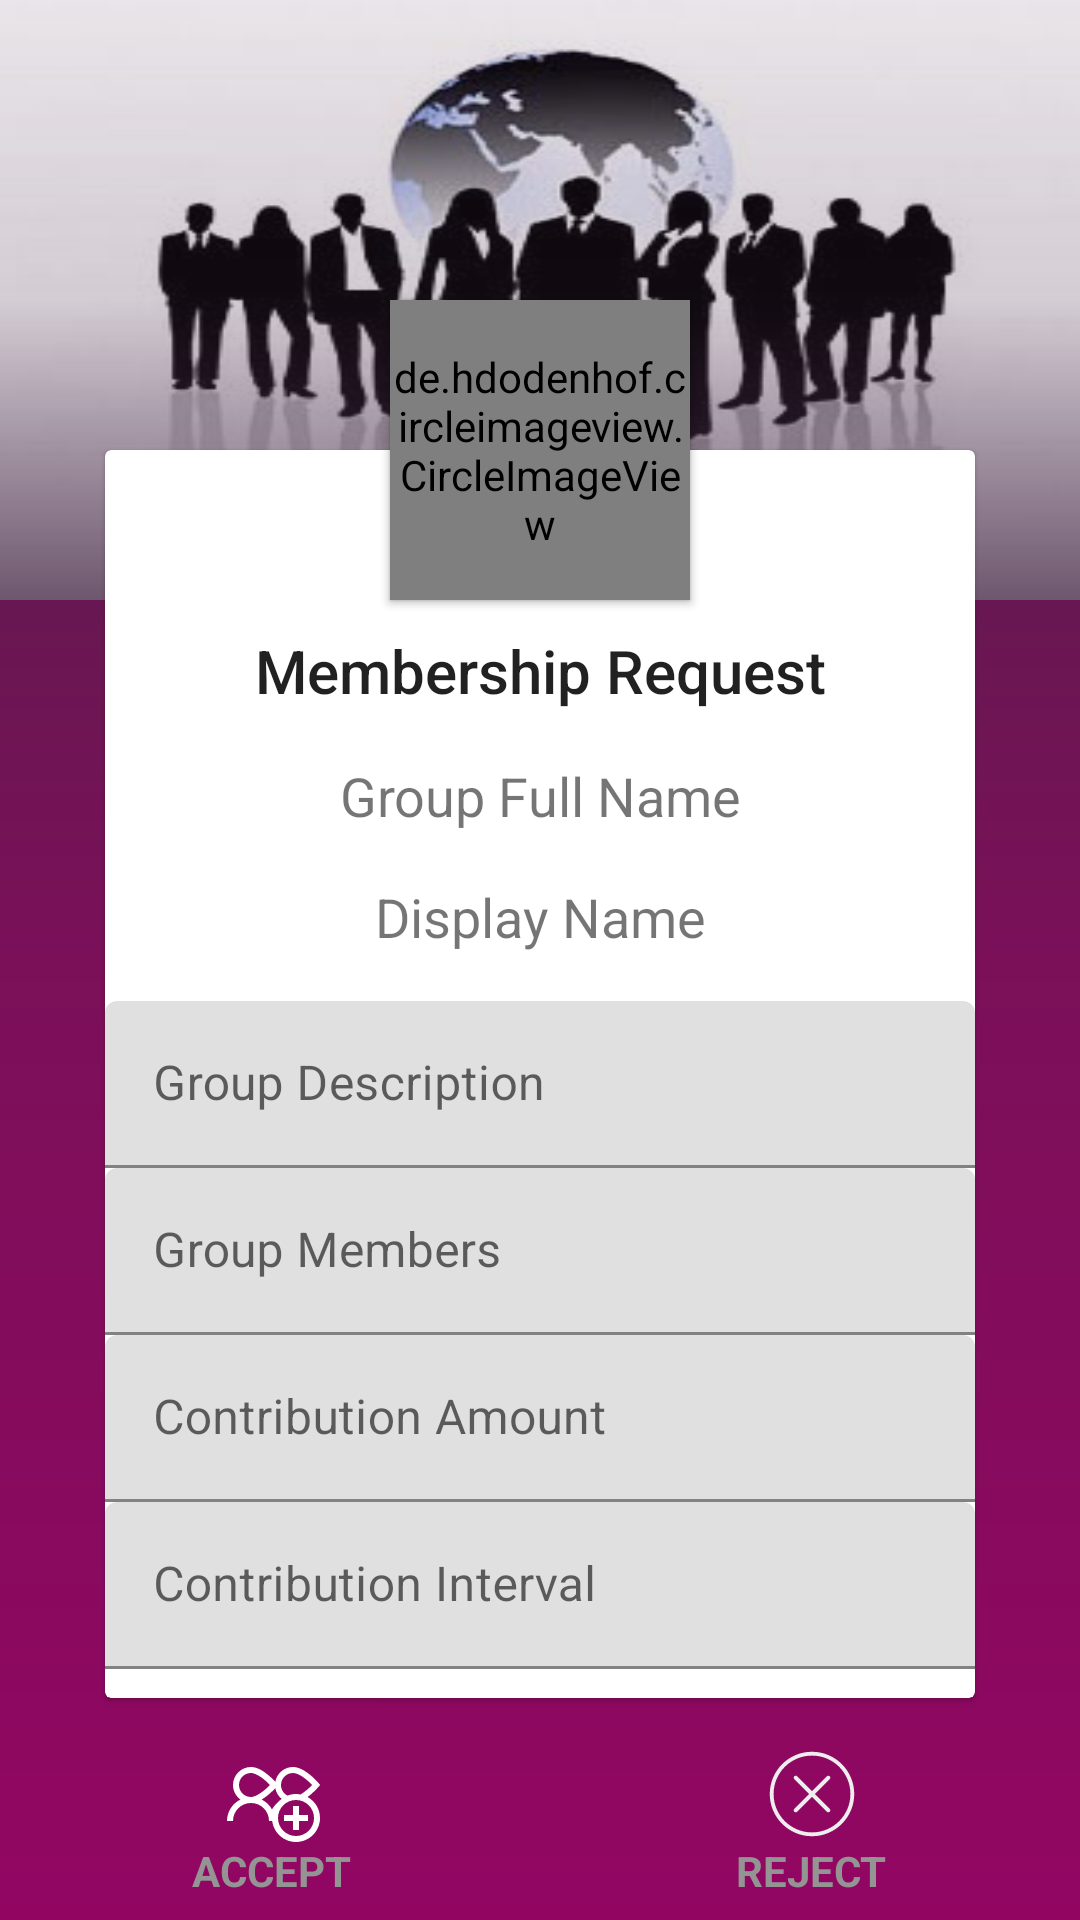

Point at icon controls on the screen. Image size 1080 × 1920, points as (x=x, y=y).
adduser: (x=273, y=1804)
cancel: (x=812, y=1794)
